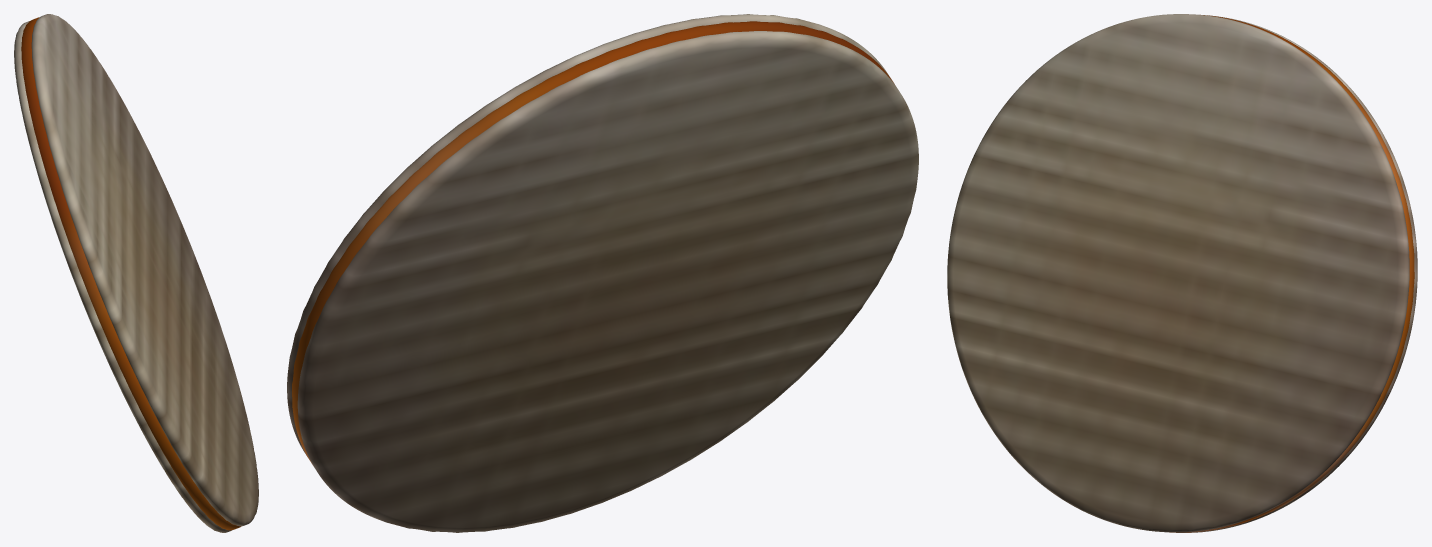
Rendered from AL_ObleasCajeta_Static.fbx.
The picture shows the model from 3 angles, left to right: view 1: azimuth 30°, elevation 25°; view 2: azimuth 150°, elevation 25°; view 3: azimuth 270°, elevation 25°; orthographic projection. The views are drawn at different scales.
Parts seen in each view (by area): view 1: Cylinder.002; view 2: Cylinder.002; view 3: Cylinder.002.
Part boxes in pixels (x1,y1,x2,y2): Cylinder.002: (14,14,258,532); Cylinder.002: (287,14,918,532); Cylinder.002: (947,14,1417,532).
Size of the model in its own units: 0.1772 by 0.1821 by 0.1264.
